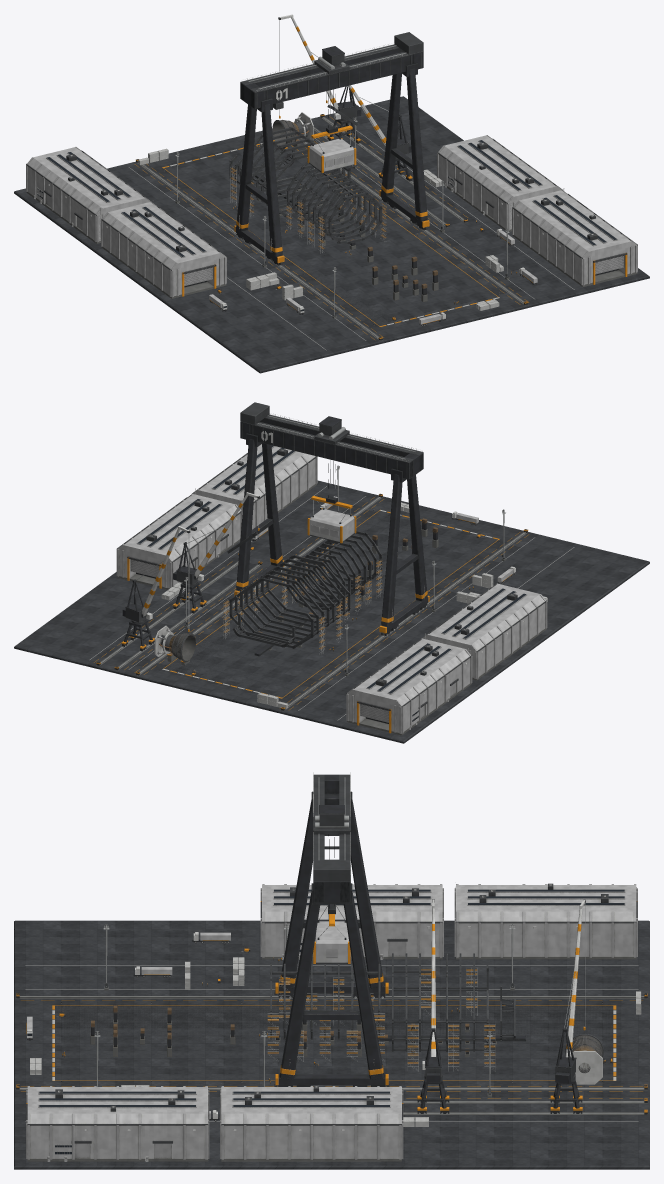
File: shipyard.glb
3 renders of one model, top to bottom at view 1: azimuth 30°, elevation 25°; view 2: azimuth 150°, elevation 25°; view 3: azimuth 270°, elevation 25°, orthographic. The views are drawn at different scales.
Visible parts, largest first — view 1: hull, parts_yard-hall, parts_yard-gantry, parts_container, parts_yard-keelBlock, parts_yard-crane-B, parts_yard-crane-A, parts_yard-scaffold-L, parts_yard-truck, parts_bell-XL, parts_yard-floodMast; view 2: hull, parts_yard-hall, parts_yard-gantry, parts_yard-crane-B, parts_yard-crane-A, parts_yard-scaffold-L, parts_container, parts_bell-XL, parts_yard-keelBlock, parts_yard-floodMast, parts_yard-truck; view 3: hull, parts_yard-hall, parts_yard-gantry, parts_yard-scaffold-L, parts_yard-crane-B, parts_yard-crane-A, parts_yard-keelBlock, parts_bell-XL, parts_container, parts_yard-truck, parts_yard-floodMast.
Part boxes in pixels (left/top/right/bottom): hull: left=14, top=89, right=649, bottom=373; parts_yard-hall: left=26, top=135, right=637, bottom=298; parts_yard-gantry: left=234, top=32, right=429, bottom=265; parts_container: left=138, top=148, right=503, bottom=310; parts_yard-keelBlock: left=256, top=184, right=438, bottom=302; parts_yard-crane-B: left=278, top=14, right=361, bottom=143; parts_yard-crane-A: left=326, top=85, right=412, bottom=184; parts_yard-scaffold-L: left=230, top=140, right=386, bottom=255; parts_yard-truck: left=209, top=228, right=537, bottom=326; parts_bell-XL: left=272, top=112, right=313, bottom=148; parts_yard-floodMast: left=175, top=117, right=509, bottom=318; hull: left=14, top=460, right=649, bottom=743; parts_yard-hall: left=116, top=444, right=547, bottom=735; parts_yard-gantry: left=234, top=402, right=429, bottom=635; parts_yard-crane-B: left=121, top=526, right=190, bottom=651; parts_yard-crane-A: left=173, top=492, right=259, bottom=613; parts_yard-scaffold-L: left=223, top=547, right=382, bottom=654; parts_container: left=161, top=502, right=493, bottom=708; parts_bell-XL: left=154, top=625, right=195, bottom=662; parts_yard-keelBlock: left=258, top=518, right=438, bottom=650; parts_yard-floodMast: left=184, top=465, right=506, bottom=676; parts_yard-truck: left=252, top=496, right=547, bottom=602; hull: left=14, top=834, right=649, bottom=1169; parts_yard-hall: left=26, top=883, right=637, bottom=1161; parts_yard-gantry: left=274, top=774, right=389, bottom=1086; parts_yard-scaffold-L: left=267, top=967, right=495, bottom=1071; parts_yard-crane-B: left=550, top=899, right=585, bottom=1114; parts_yard-crane-A: left=417, top=899, right=449, bottom=1114; parts_yard-keelBlock: left=90, top=1005, right=496, bottom=1056; parts_bell-XL: left=565, top=1034, right=603, bottom=1084; parts_container: left=30, top=957, right=641, bottom=1126; parts_yard-truck: left=26, top=932, right=230, bottom=1121; parts_yard-floodMast: left=94, top=924, right=515, bottom=1097.
Size of the model in its own units: 258 by 117 by 282.
Materials: 25 (23 with a texture image).
